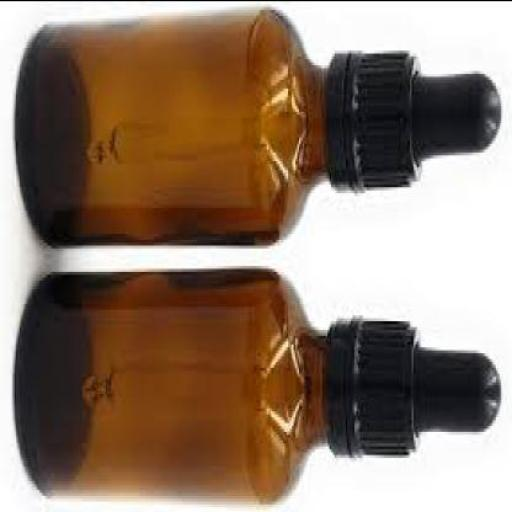glass: (18, 6, 328, 248), (17, 265, 329, 501)
plastic: (328, 46, 503, 187), (328, 314, 503, 454)
